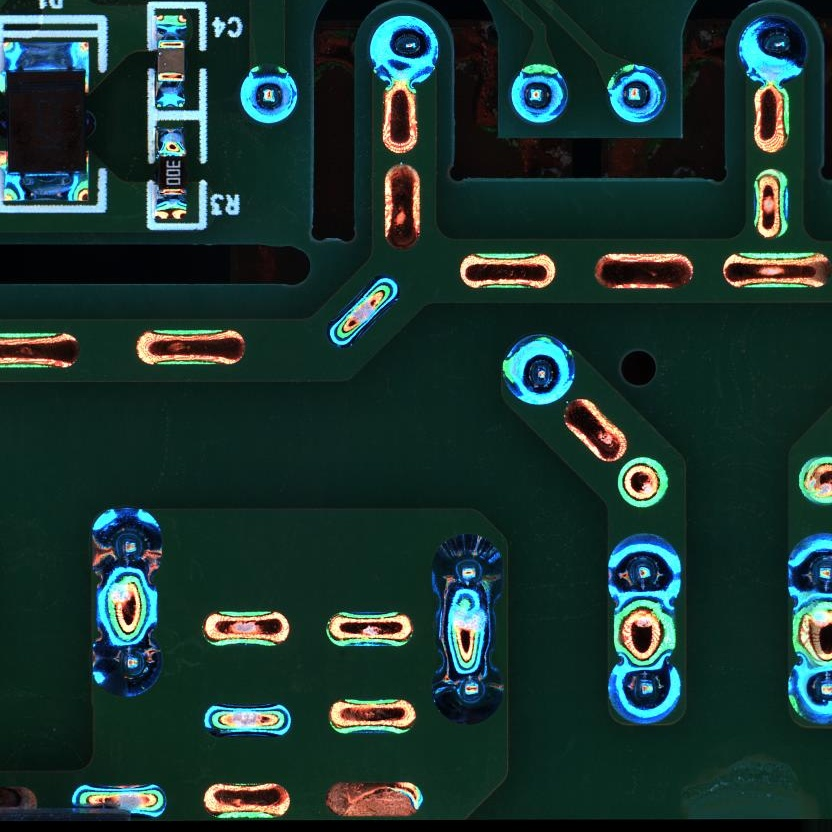spot: (604, 532, 683, 610), (86, 507, 167, 582), (499, 332, 576, 407), (429, 532, 506, 607), (430, 656, 508, 726), (606, 658, 684, 726), (368, 14, 440, 86), (735, 14, 807, 86), (88, 635, 163, 700), (607, 61, 668, 126), (510, 62, 570, 126), (239, 65, 299, 126), (784, 657, 832, 728), (785, 531, 832, 601)
